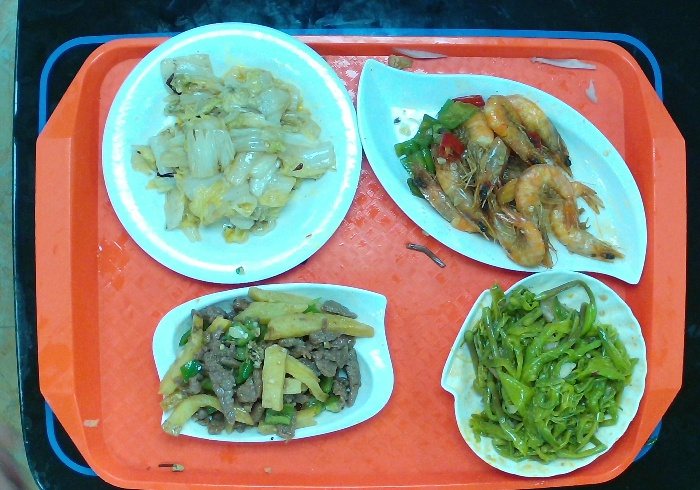RJxy-Bei_Ke_Wan: (439, 267, 652, 479)
RJxy-Jian_Jiao_Fang_Die: (149, 280, 396, 447)
RJxy-Jian_Jiao_Pan: (358, 56, 652, 284)
RJxy-Yuan_Pan: (98, 15, 361, 288)
